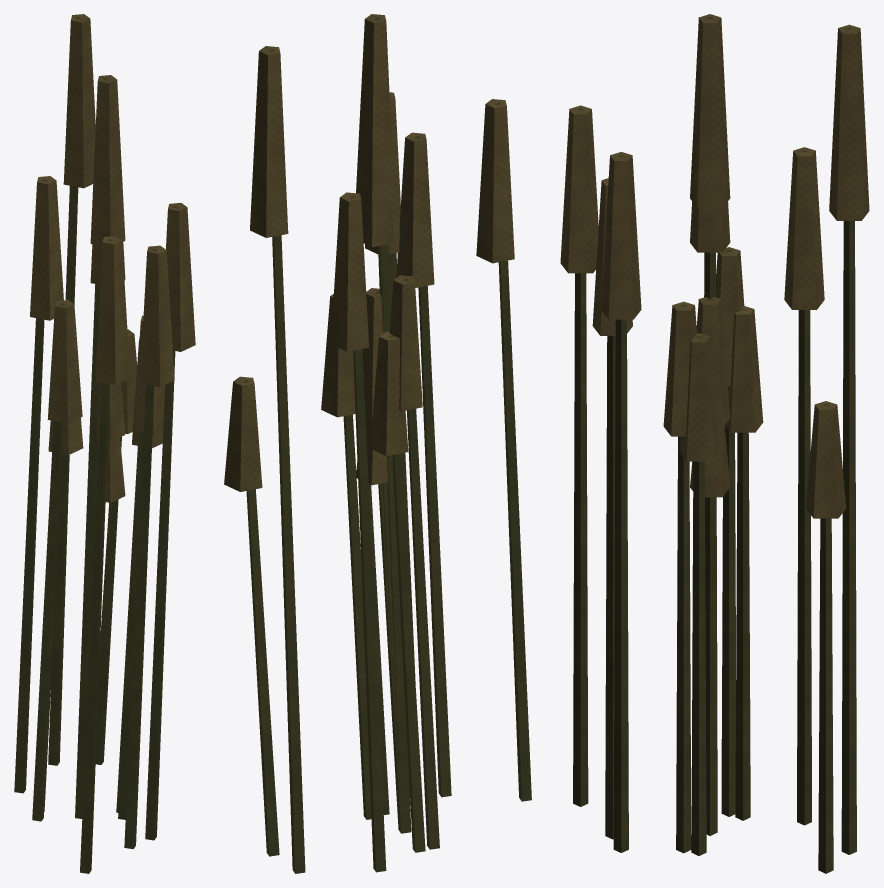
The model's file is nature_reed_clump.glb.
3 views of the same model, side by side, from view 1: azimuth 30°, elevation 25°; view 2: azimuth 150°, elevation 25°; view 3: azimuth 270°, elevation 25° (orthographic). The views are drawn at different scales.
Visible parts, largest first — view 1: reed_stem.007, reed_stem.006, reed_stem.010, reed_stem.002, reed_head.011, reed_head.012, reed_stem.012, reed_stem.011, reed_stem.009, reed_head.007, reed_head.002, reed_head.006 (+13 smaller); view 2: reed_stem.011, reed_stem.007, reed_stem.006, reed_stem.002, reed_head.011, reed_head.012, reed_stem.009, reed_head.007, reed_head.006, reed_stem.001, reed_head.002, reed_stem.003 (+15 smaller); view 3: reed_stem.011, reed_stem.007, reed_stem.010, reed_stem.006, reed_head.011, reed_head.012, reed_stem.005, reed_stem.013, reed_stem.001, reed_head.010, reed_head.007, reed_head.006 (+14 smaller).
Boxes of the visible parts, bbox=[...] form: reed_stem.007: bbox=[80, 238, 113, 873]; reed_stem.006: bbox=[14, 178, 47, 793]; reed_stem.010: bbox=[145, 205, 178, 840]; reed_stem.002: bbox=[124, 248, 157, 849]; reed_head.011: bbox=[63, 14, 95, 188]; reed_head.012: bbox=[90, 75, 125, 245]; reed_stem.012: bbox=[75, 77, 108, 818]; reed_stem.011: bbox=[48, 16, 81, 765]; reed_stem.009: bbox=[32, 302, 65, 821]; reed_head.007: bbox=[95, 236, 130, 385]; reed_head.002: bbox=[140, 245, 174, 387]; reed_head.006: bbox=[30, 176, 63, 320]; reed_stem.011: bbox=[268, 49, 305, 873]; reed_stem.007: bbox=[495, 101, 531, 801]; reed_stem.006: bbox=[349, 195, 386, 872]; reed_stem.002: bbox=[415, 135, 451, 797]; reed_head.011: bbox=[250, 46, 288, 237]; reed_head.012: bbox=[356, 14, 394, 203]; reed_stem.009: bbox=[403, 278, 439, 849]; reed_head.007: bbox=[476, 99, 514, 263]; reed_head.006: bbox=[330, 192, 368, 351]; reed_stem.001: bbox=[388, 335, 425, 852]; reed_head.002: bbox=[396, 132, 434, 287]; reed_stem.003: bbox=[242, 379, 279, 856]; reed_stem.011: bbox=[841, 27, 856, 854]; reed_stem.007: bbox=[573, 108, 588, 806]; reed_stem.010: bbox=[613, 154, 628, 852]; reed_stem.006: bbox=[797, 150, 811, 825]; reed_head.011: bbox=[829, 24, 869, 220]; reed_head.012: bbox=[690, 14, 730, 208]; reed_stem.005: bbox=[676, 304, 691, 853]; reed_stem.013: bbox=[691, 336, 706, 855]; reed_stem.001: bbox=[735, 308, 750, 820]; reed_head.010: bbox=[601, 152, 641, 319]; reed_head.007: bbox=[560, 105, 598, 273]; reed_head.006: bbox=[784, 147, 824, 309].
Bounding box in the file's own units: 0.2551 × 1.09 × 0.3641.
2 materials, 2 textured.
